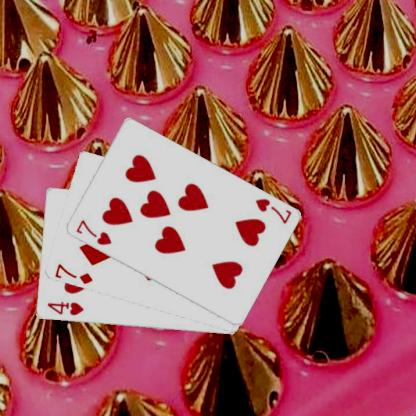4H: (45, 299, 85, 317)
7D: (52, 261, 94, 286)
7H: (72, 217, 112, 247), (252, 196, 293, 225)
